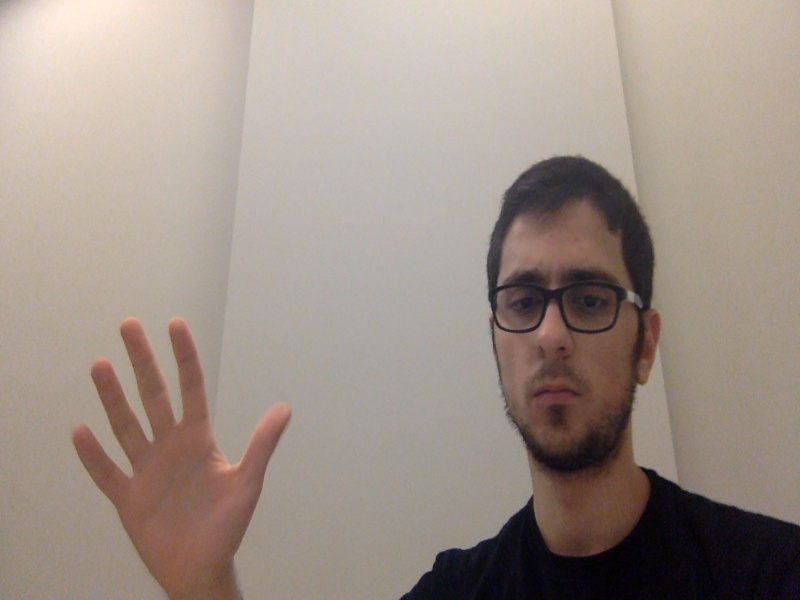5-hand: (71, 317, 303, 585)
